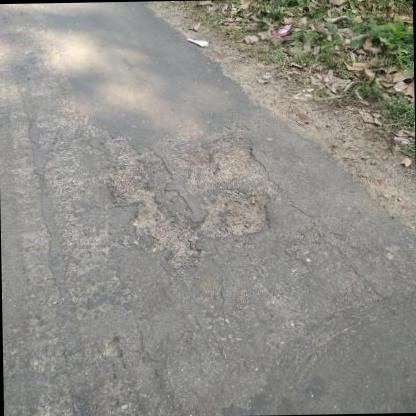pothole: (98, 128, 282, 271)
